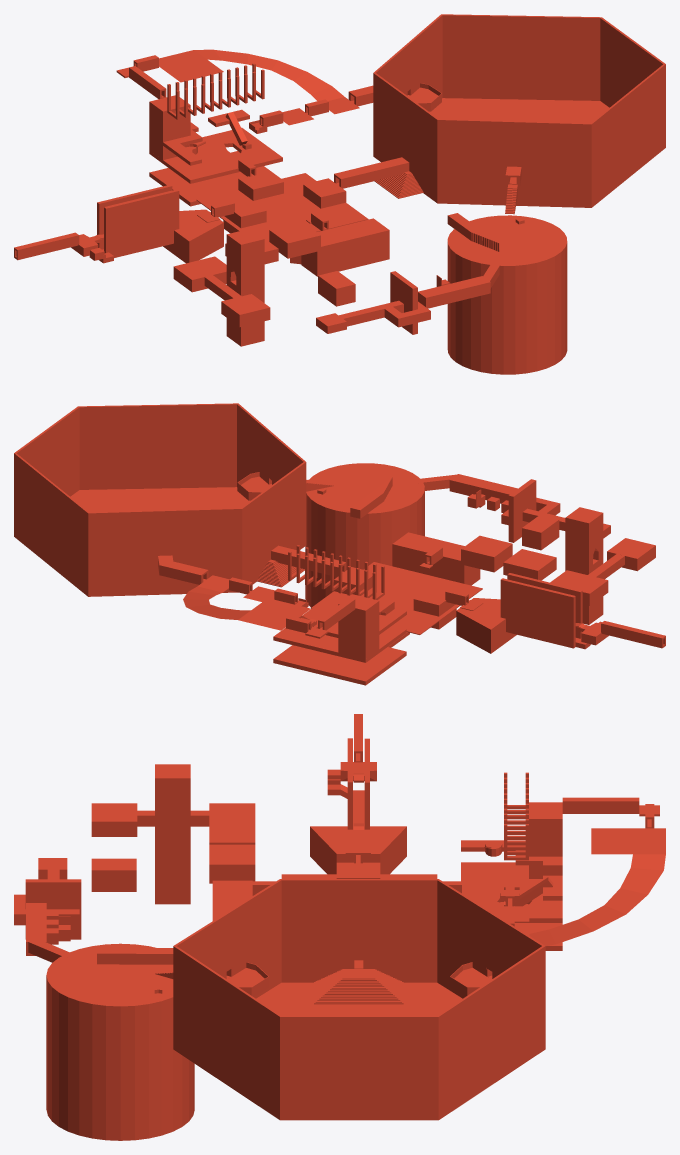
Rendered from wip_dungeon1_blockout.glb.
3 renders of one model, top to bottom at view 1: azimuth 30°, elevation 25°; view 2: azimuth 150°, elevation 25°; view 3: azimuth 270°, elevation 25°, orthographic. The views are drawn at different scales.
Parts seen in each view (by area): view 1: Cube.015; view 2: Cube.015; view 3: Cube.015.
Part boxes in pixels (x1,y1,x2,y2): Cube.015: (14, 14, 665, 374); Cube.015: (14, 403, 665, 685); Cube.015: (14, 714, 665, 1140).
Size of the model in its own units: 149 by 43.08 by 110.
